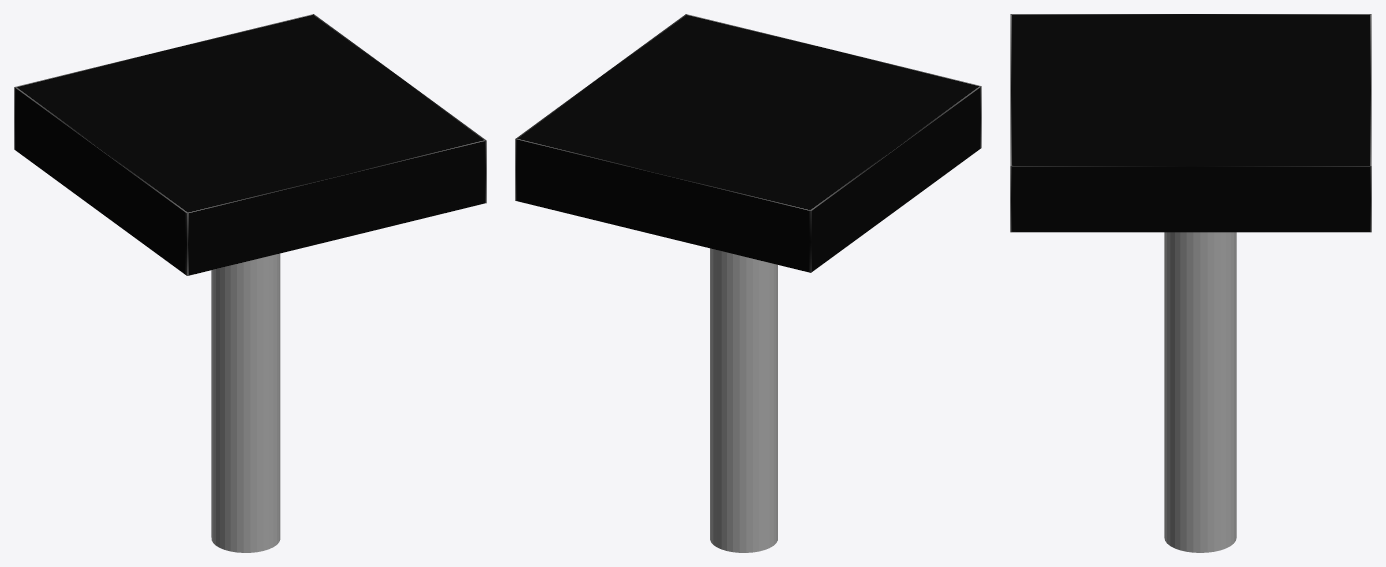
The model's file is judgesChair.obj.
The picture shows the model from 3 angles, left to right: view 1: azimuth 30°, elevation 25°; view 2: azimuth 150°, elevation 25°; view 3: azimuth 270°, elevation 25°; orthographic projection. The views are drawn at different scales.
Parts seen in each view (by area): view 1: judgesChair; view 2: judgesChair; view 3: judgesChair.
Part boxes in pixels (x1=…): judgesChair: x1=14, y1=14, x2=486, y2=552; judgesChair: x1=515, y1=14, x2=981, y2=552; judgesChair: x1=1010, y1=14, x2=1371, y2=552.
Bounding box in the file's own units: 0.5 × 0.6831 × 0.5.
1 material, 1 textured.
